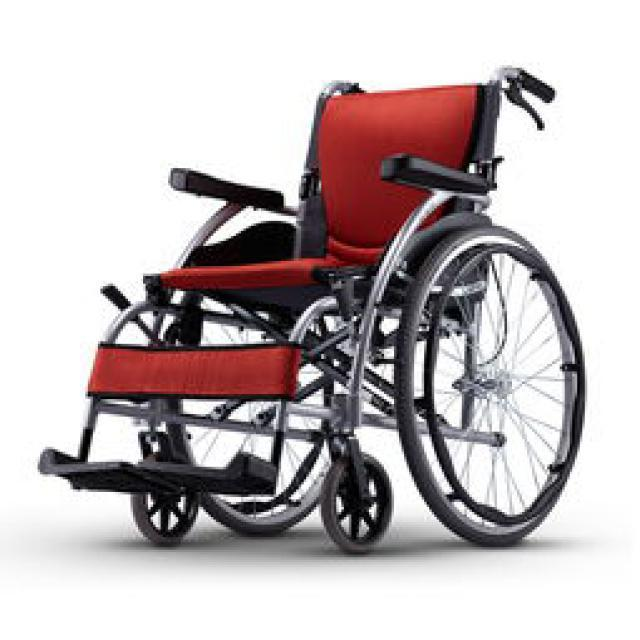wheelchair: (32, 63, 584, 590)
